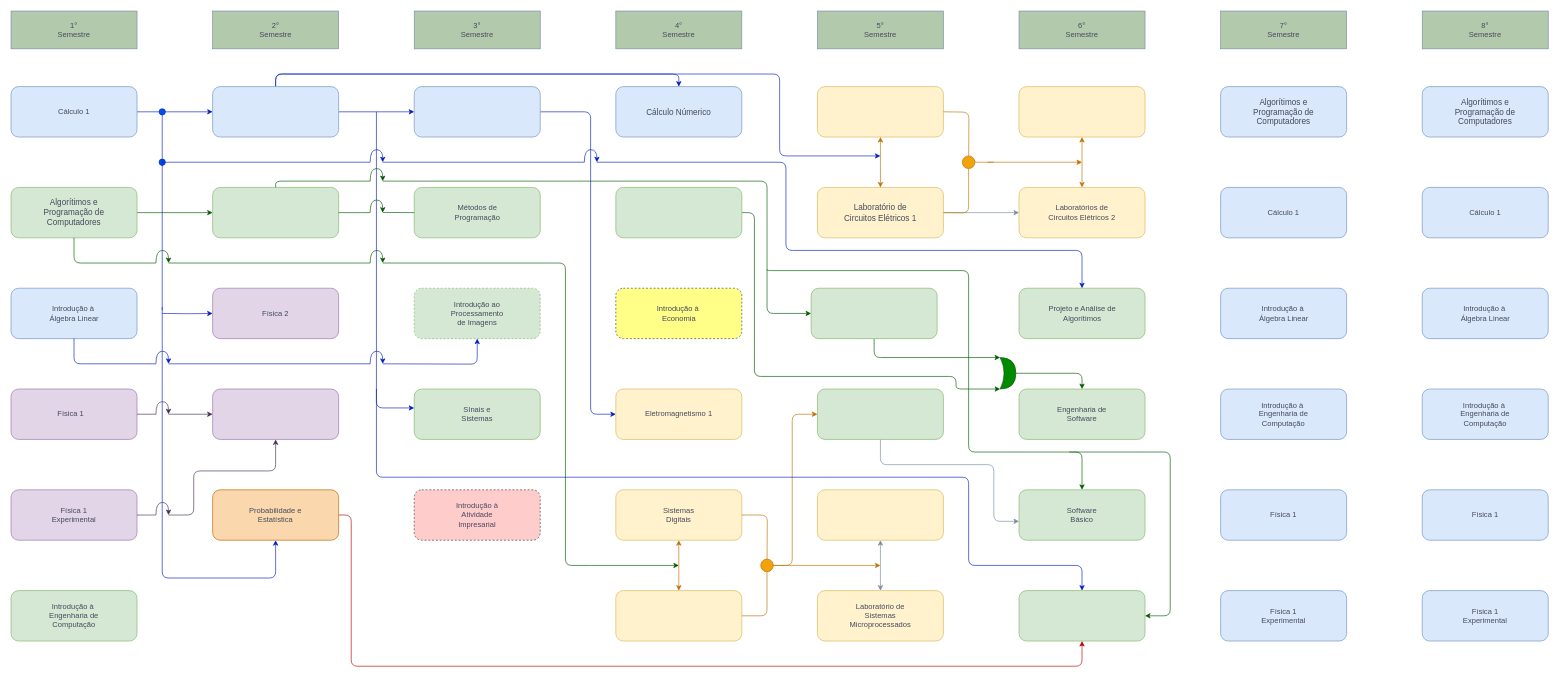
Some shapes in this 1559 by 682 pixel diagram are drawn without their labels. Each missing label, with the centre of its shape:
Circuitos Elétricos 1: the point at 880,111
Circuitos Elétricos 2: the point at 1081,111
Cálculo 2: the point at 275,111
Cálculo 3: the point at 477,111
Estrutura de Dados: the point at 275,212
Física 2 Experimental: the point at 275,413
Laboratório de Sistemas Digitais: the point at 678,615
Linguagens de Programação: the point at 873,313
Organização e Arquitetura de Computadores: the point at 880,413
Sistemas Microprocessados: the point at 880,514
Teleinformática de Redes 1: the point at 1081,615
Técnicas de Programação 1: the point at 678,212
